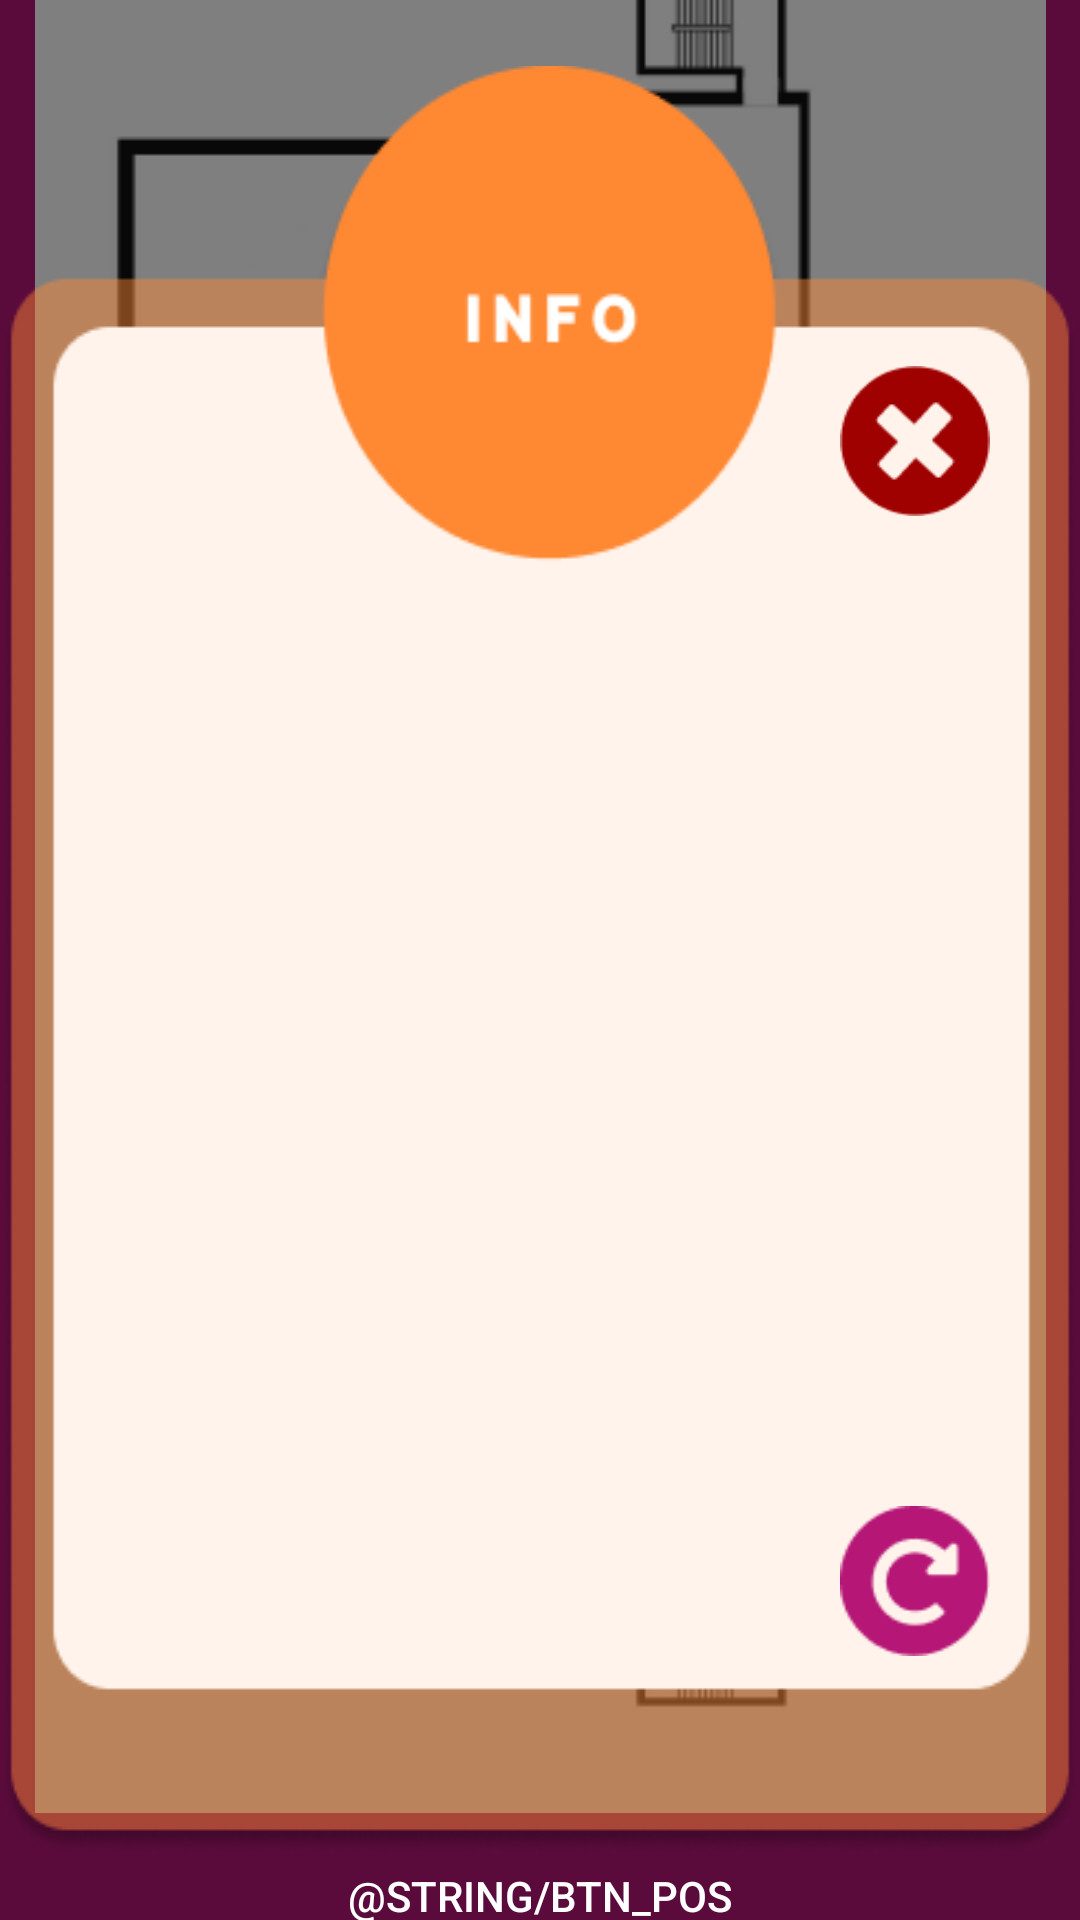

Icons on this 1080 x 1920 Android screen, each with the point to tap as point (x, y):
close: point (915, 441)
replay: point (915, 1581)
